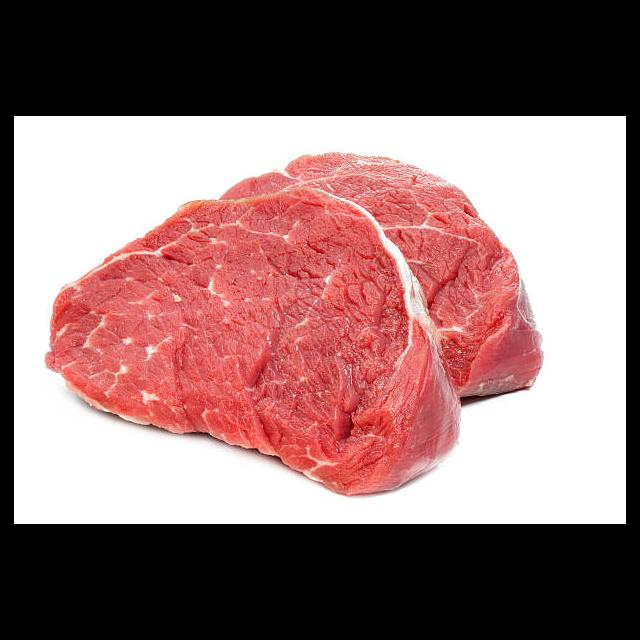beef: (44, 152, 545, 497)
